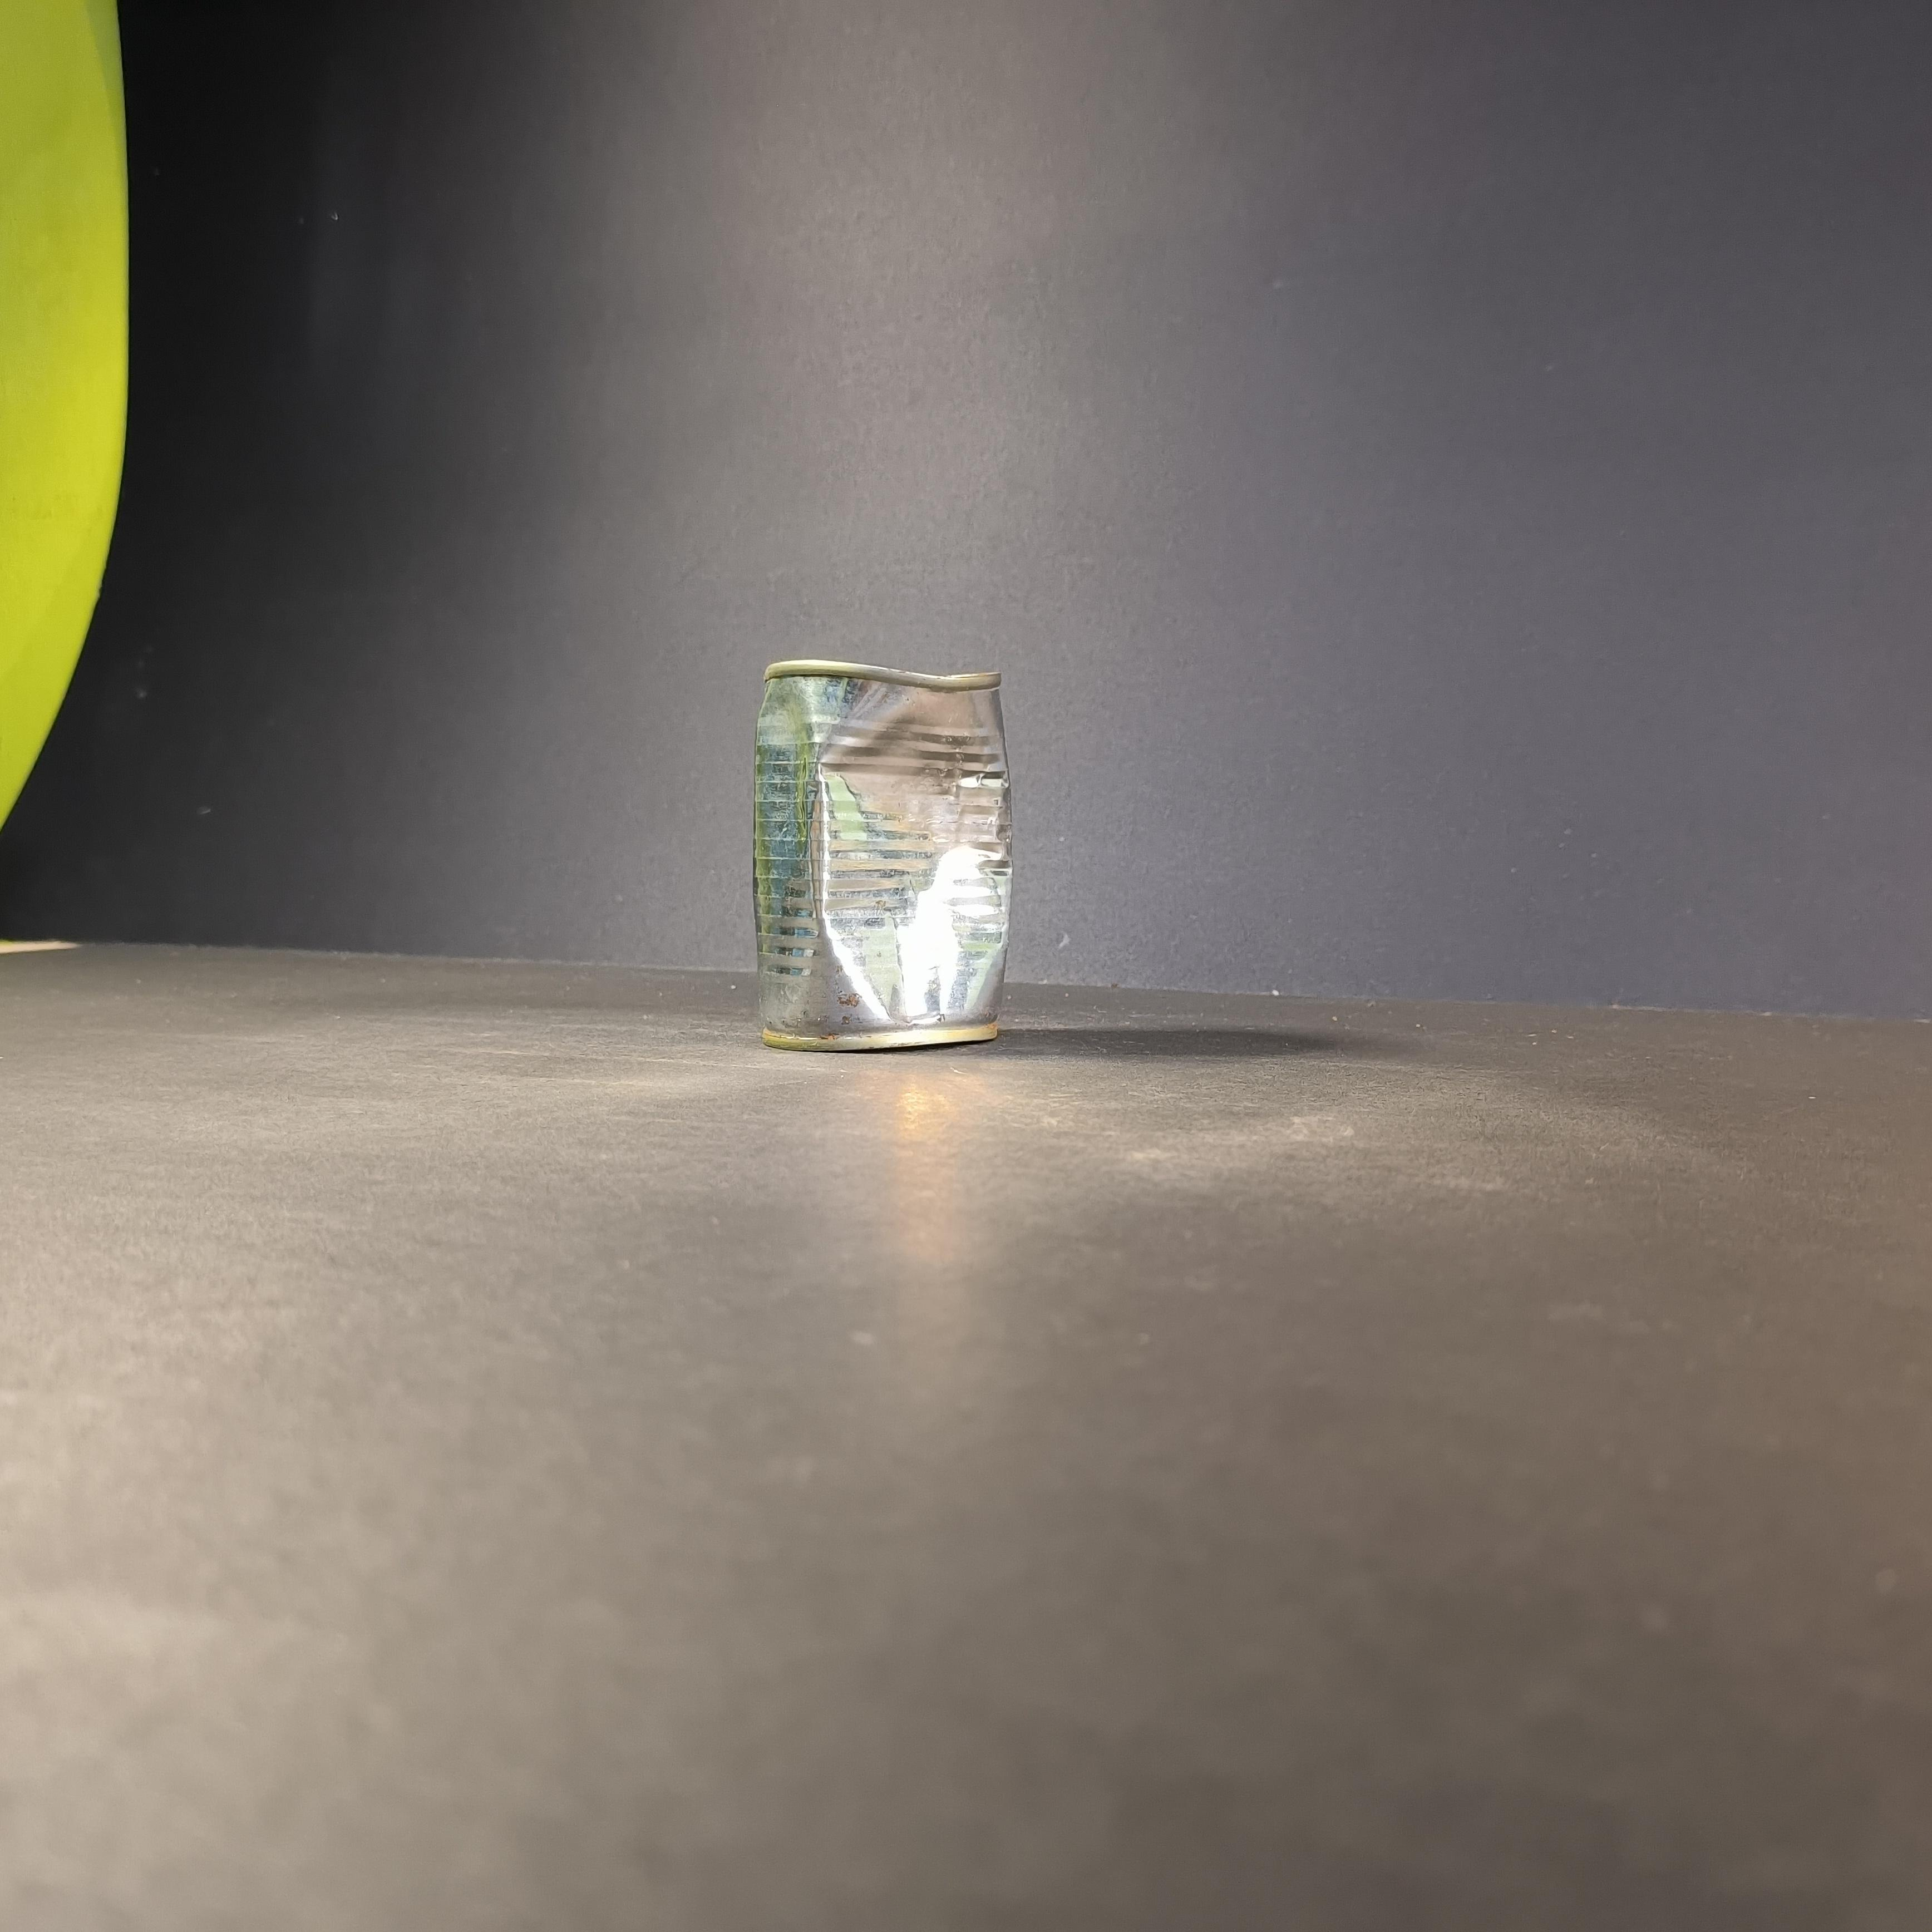Dented: (740, 648, 1021, 1069)
